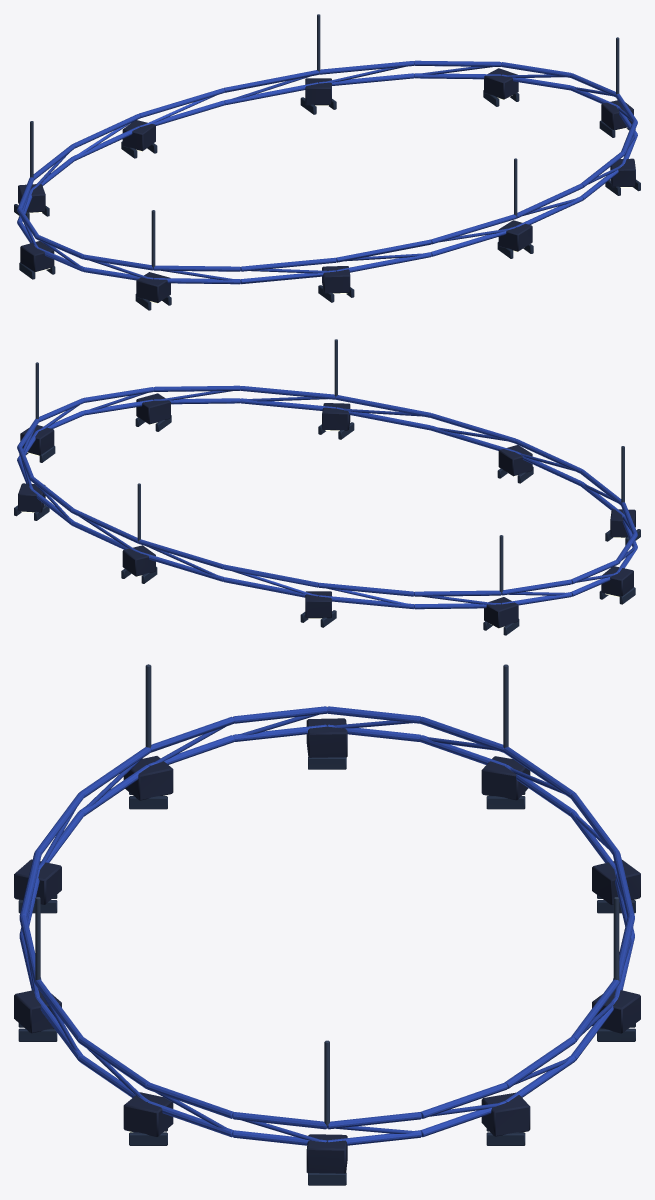
Rendered from lighting.glb.
3 views of the same model, one above another, from view 1: azimuth 30°, elevation 25°; view 2: azimuth 150°, elevation 25°; view 3: azimuth 270°, elevation 25° (orthographic). The views are drawn at different scales.
Visible parts, largest first — view 1: lighting; view 2: lighting; view 3: lighting.
Boxes of the visible parts, x1,y1,x2,y2 form: lighting: (14,14,640,310); lighting: (14,339,640,635); lighting: (14,664,640,1185).
Bounding box in the file's own units: 17.16 × 2.52 × 10.51.
